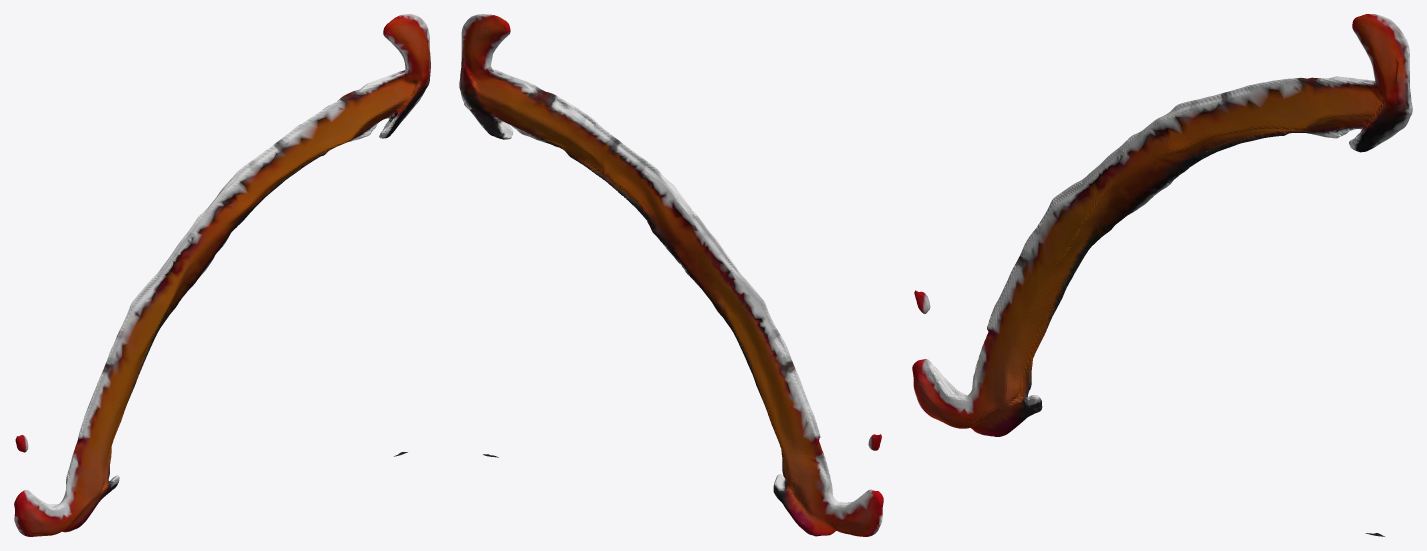
The model's file is reflexbow.glb.
3 renders of one model, left to right at view 1: azimuth 30°, elevation 25°; view 2: azimuth 150°, elevation 25°; view 3: azimuth 330°, elevation 25°, orthographic. The views are drawn at different scales.
Visible parts, largest first — view 1: geometry_0; view 2: geometry_0; view 3: geometry_0.
Boxes of the visible parts, <box> form: geometry_0: <box>14,14,430,536</box>; geometry_0: <box>459,14,883,536</box>; geometry_0: <box>912,14,1412,536</box>.
Bounding box in the file's own units: 0.9018 × 0.9062 × 0.0502.
